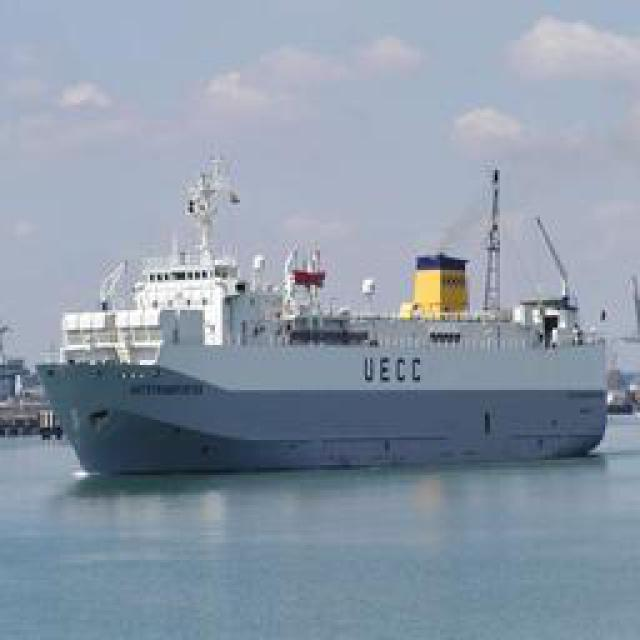Ship: (38, 161, 613, 466)
